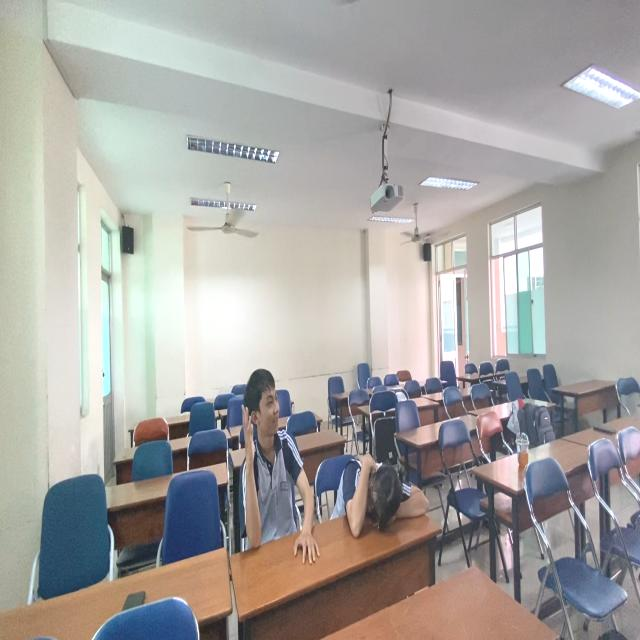raise_hand: (231, 367, 322, 562)
sleep: (332, 445, 431, 539)
